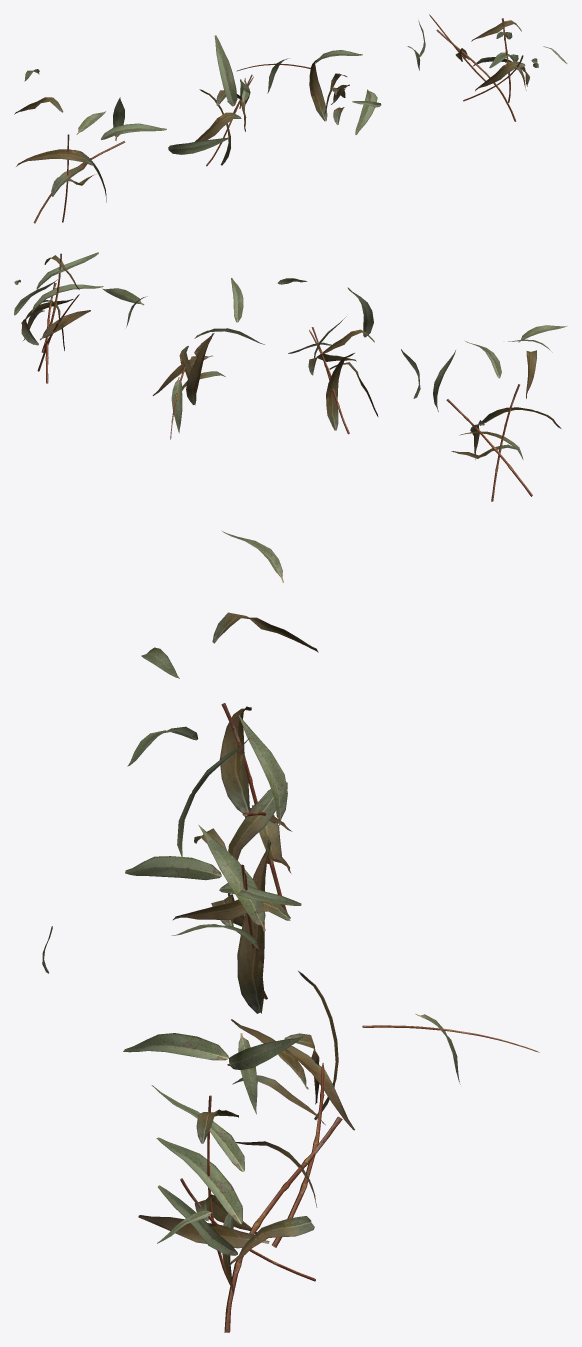
The model's file is shrub_02.glb.
The picture shows the model from 3 angles, top to bottom: view 1: azimuth 30°, elevation 25°; view 2: azimuth 150°, elevation 25°; view 3: azimuth 270°, elevation 25°; orthographic projection. The views are drawn at different scales.
Visible parts, largest first — view 1: shrub_02_a, shrub_02_b, shrub_02_c, shrub_02_d; view 2: shrub_02_c, shrub_02_a, shrub_02_d, shrub_02_b; view 3: shrub_02_d, shrub_02_b, shrub_02_a, shrub_02_c.
Boxes of the visible parts, box(x1,y1,x2,y2) form: shrub_02_a: box(14, 69, 166, 223); shrub_02_b: box(168, 35, 253, 166); shrub_02_c: box(236, 20, 425, 134); shrub_02_d: box(429, 14, 567, 121); shrub_02_c: box(102, 278, 307, 439); shrub_02_a: box(433, 325, 566, 501); shrub_02_d: box(14, 252, 103, 383); shrub_02_b: box(288, 287, 420, 434); shrub_02_d: box(138, 1063, 342, 1332); shrub_02_b: box(125, 738, 301, 1013); shrub_02_a: box(127, 531, 318, 912); shrub_02_c: box(42, 924, 539, 1130).
Bounding box in the file's own units: 6.02 × 1.82 × 2.45.
Materials: 1 (1 with a texture image).
